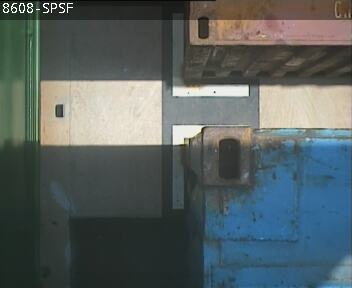groundmarker_1: (171, 13, 250, 207)
